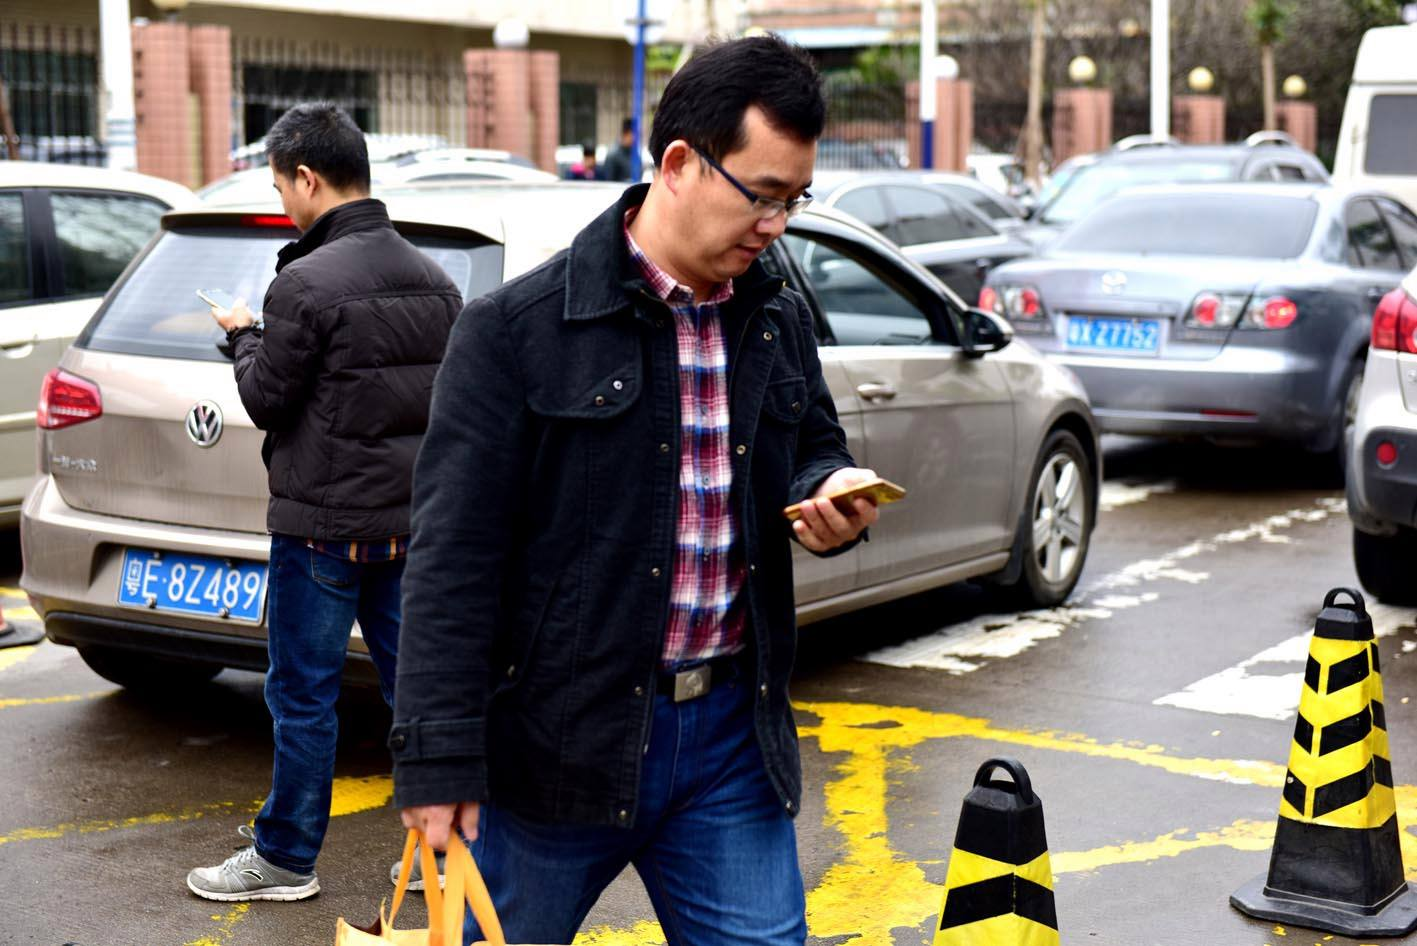reading: (778, 463, 913, 557), (197, 278, 259, 334)
